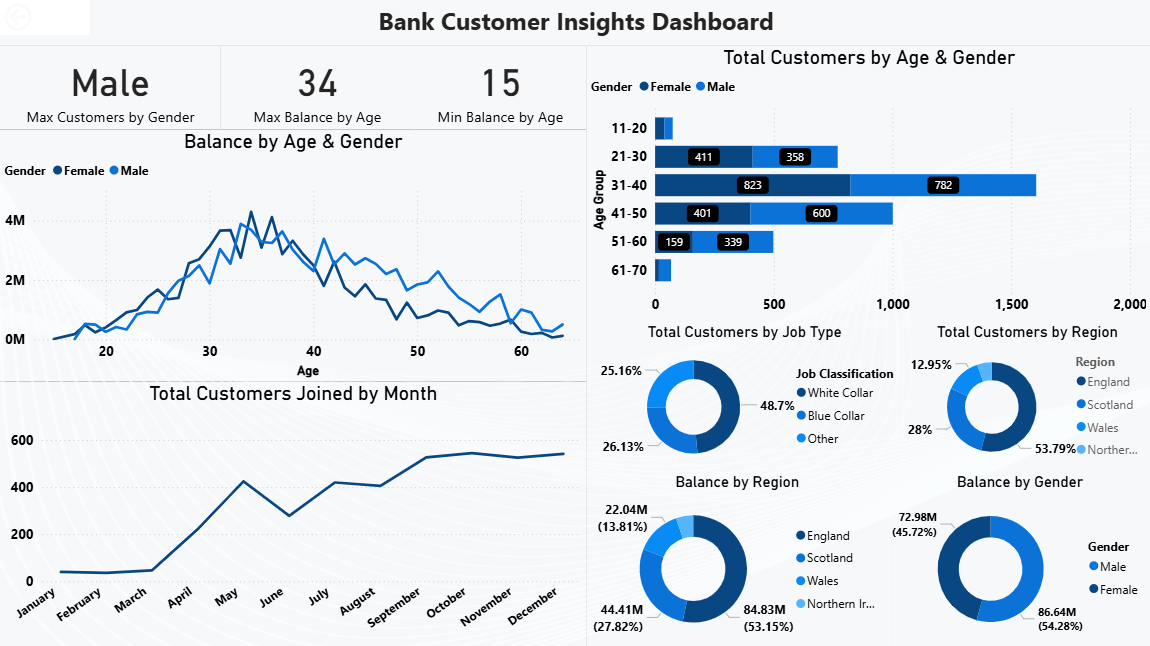

The dashboard page shown, as its layout file describes it:
{"tool":"powerbi","page":{"name":"Page 1","canvas":[1280,720],"ordinal":0},"visuals":[{"type":"lineChart","title":"Balance by Age & Gender","fields":{"Category":["Bank Data Analysis.Age"],"Y":["Sum(Bank Data Analysis.Balance)"],"Series":["Bank Data Analysis.Gender"]},"box":[0,145,651.7,280],"z":0},{"type":"barChart","title":"Total Customers by Age & Gender","fields":{"Category":["Bank Data Analysis.Age Group"],"Y":["CountNonNull(Bank Data Analysis.Name.1)"],"Series":["Bank Data Analysis.Gender"]},"box":[651.7,51.7,628.3,308.3],"z":1000},{"type":"donutChart","title":"Total Customers by Region","fields":{"Y":["CountNonNull(Bank Data Analysis.Name.1)"],"Category":["Bank Data Analysis.Region"]},"box":[1003.3,360,276.7,166.7],"z":2000},{"type":"donutChart","title":"Balance by Region","fields":{"Y":["Sum(Bank Data Analysis.Balance)"],"Category":["Bank Data Analysis.Region"]},"box":[651.7,526.7,335,193.3],"z":3000},{"type":"donutChart","title":"Total Customers by Job Type","fields":{"Y":["CountNonNull(Bank Data Analysis.Name.1)"],"Category":["Bank Data Analysis.Job Classification"]},"box":[651.7,360,351.7,166.7],"z":4000},{"type":"donutChart","title":"Balance by Gender","fields":{"Y":["Sum(Bank Data Analysis.Balance)"],"Category":["Bank Data Analysis.Gender"]},"box":[986.7,526.7,293.3,193.3],"z":5000},{"type":"lineChart","title":"Total Customers Joined by Month","fields":{"Y":["CountNonNull(Bank Data Analysis.Name.1)"],"Category":["Bank Data Analysis.Date Joined.Variation.Date Hierarchy.Month"]},"box":[0,425,651.7,295],"z":6000},{"type":"card","fields":{"Values":["Max(Bank Data Analysis.Age)"]},"box":[245,51.7,215,93.3],"z":7000},{"type":"actionButton","box":[0,0,100,40],"z":8000},{"type":"card","fields":{"Values":["Sum(Bank Data Analysis.Age)"]},"box":[460,51.7,191.7,93.3],"z":9000},{"type":"card","fields":{"Values":["Min(Bank Data Analysis.Gender)"]},"box":[0,51.7,245,93.3],"z":10000},{"type":"textbox","box":[0,0,1280,51.7],"z":11000}]}

Visuals, with their boxes in screenshot pixels (x1, y1, x2, y2), scaled from the page's 1280x720 canvas onto the 1150x646 screenshot:
"Balance by Age & Gender" lineChart: 0/130/586/381
"Total Customers by Age & Gender" barChart: 586/46/1149/323
"Total Customers by Region" donutChart: 901/323/1149/473
"Balance by Region" donutChart: 586/473/886/645
"Total Customers by Job Type" donutChart: 586/323/901/473
"Balance by Gender" donutChart: 886/473/1149/645
"Total Customers Joined by Month" lineChart: 0/381/586/645
card - Max(Bank Data Analysis.Age): 220/46/413/130
actionButton: 0/0/90/36
card - Sum(Bank Data Analysis.Age): 413/46/586/130
card - Min(Bank Data Analysis.Gender): 0/46/220/130
textbox: 0/0/1149/46
